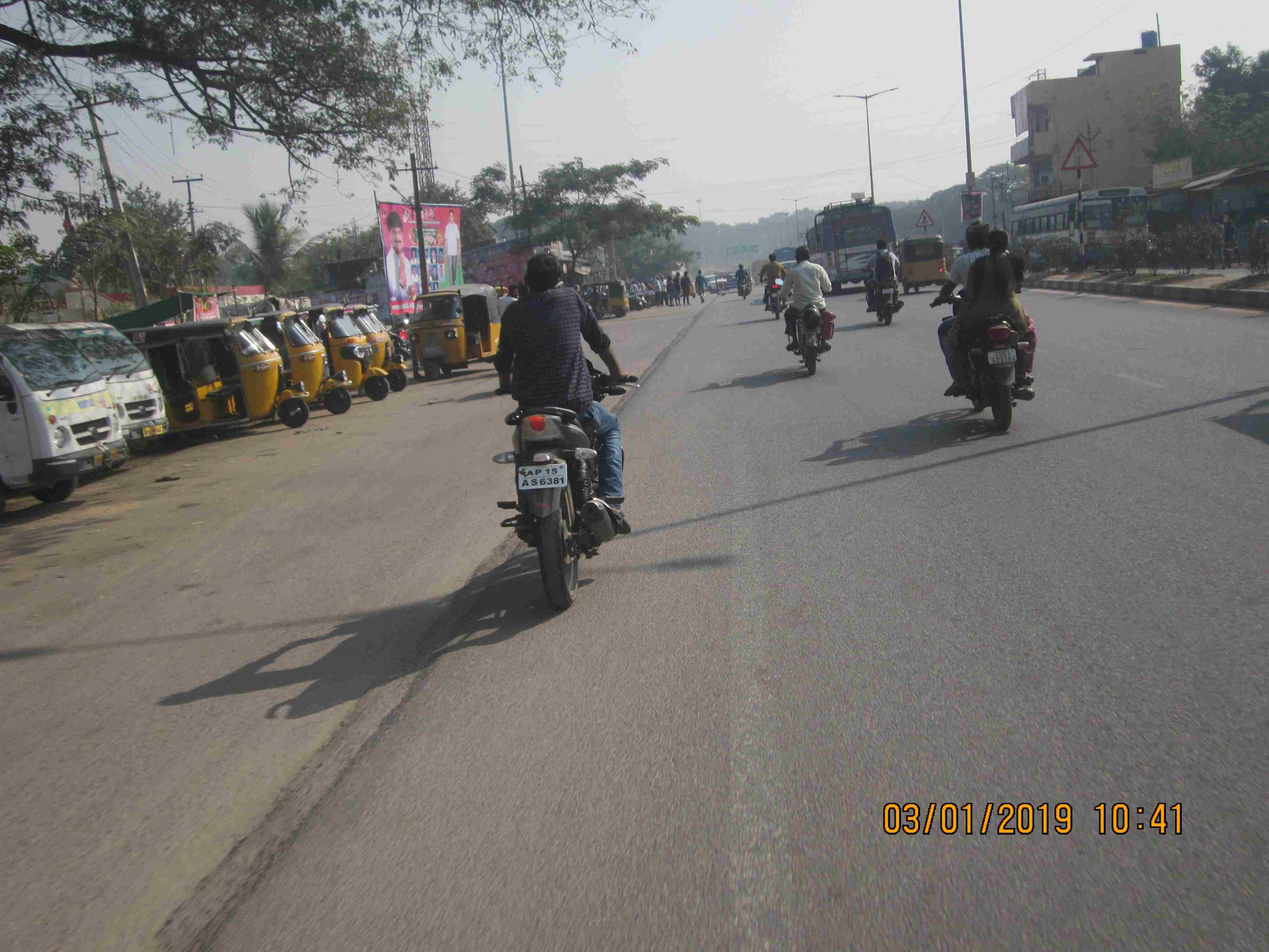plate: (511, 457, 581, 493)
